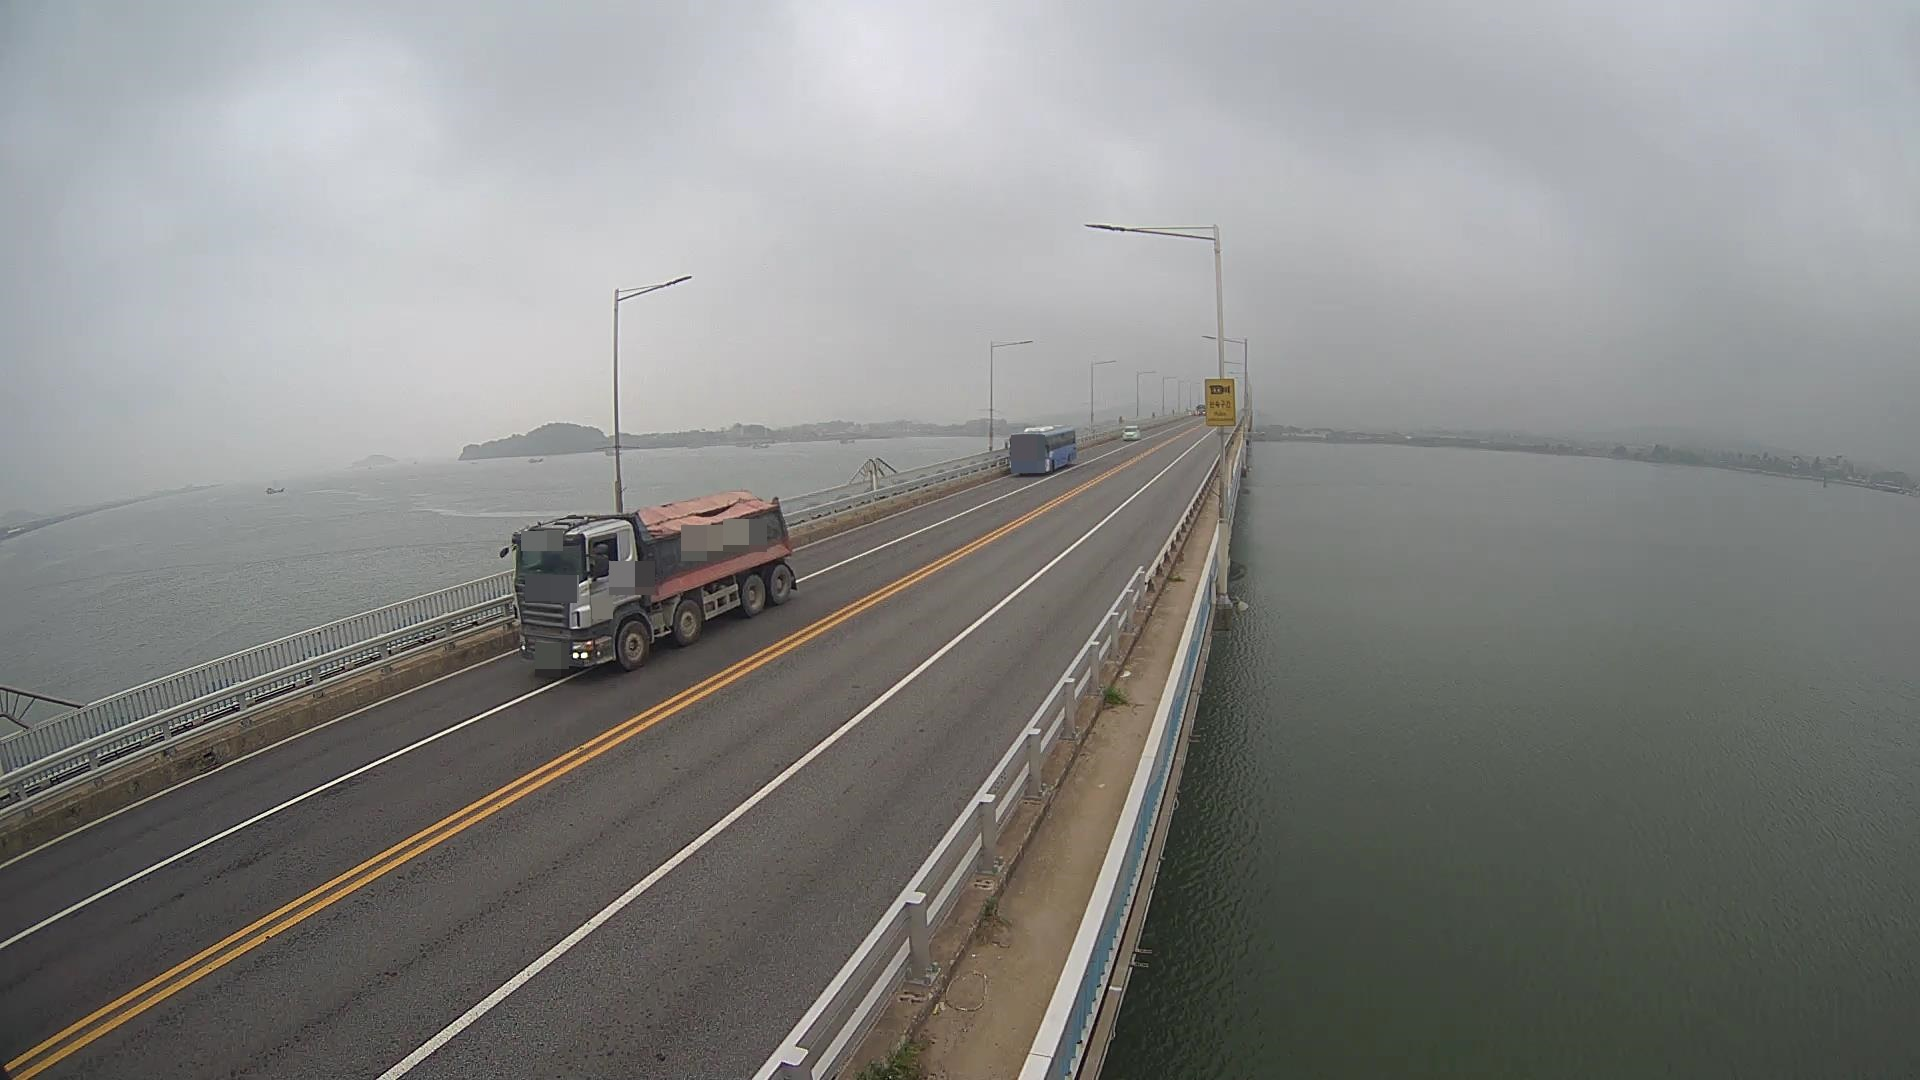정상차량: (500, 491, 796, 673)
